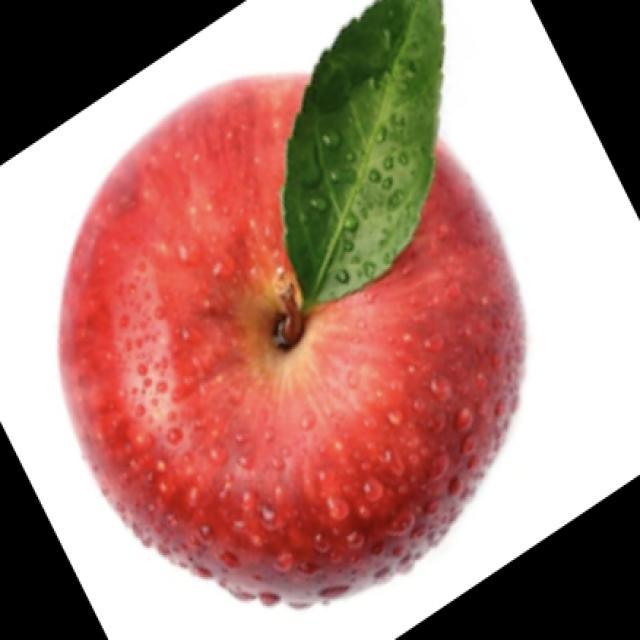Fresh Apple: (57, 65, 530, 612)
